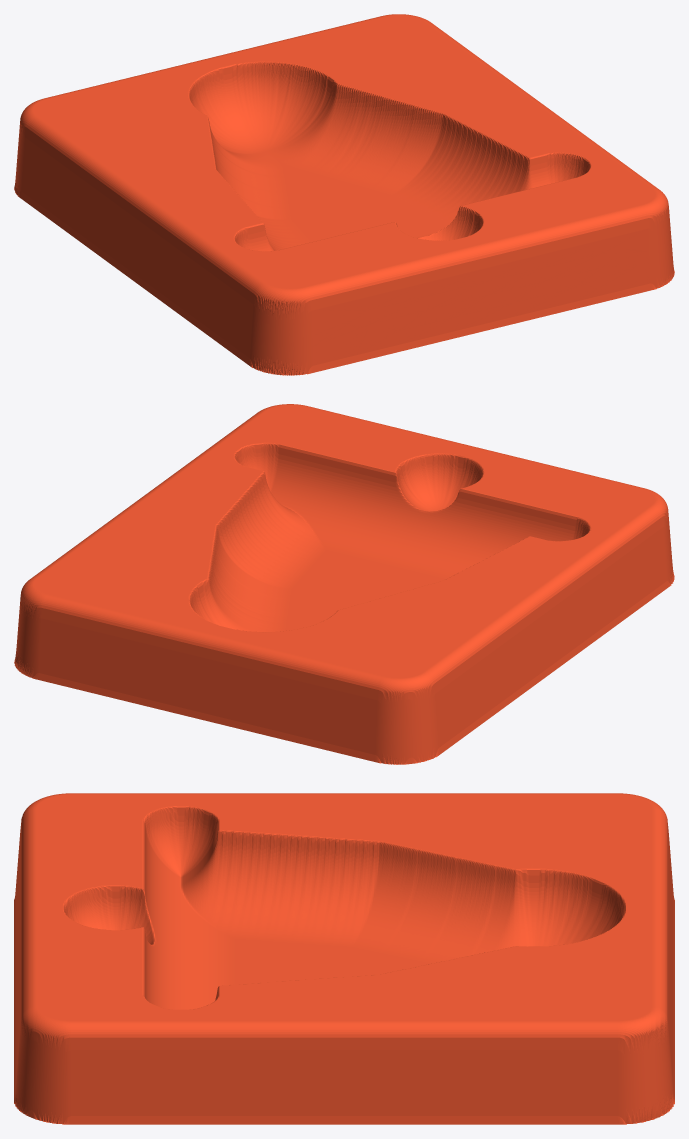
Rendered from mold.glb.
3 views of the same model, one above another, from view 1: azimuth 30°, elevation 25°; view 2: azimuth 150°, elevation 25°; view 3: azimuth 270°, elevation 25° (orthographic). The views are drawn at different scales.
Visible parts, largest first — view 1: geometry_0; view 2: geometry_0; view 3: geometry_0.
Part boxes in pixels (x1,y1,x2,y2): geometry_0: (14,14,674,375); geometry_0: (14,404,674,764); geometry_0: (14,793,674,1124).
Bounding box in the file's own units: 0.0922 × 0.0165 × 0.105.
